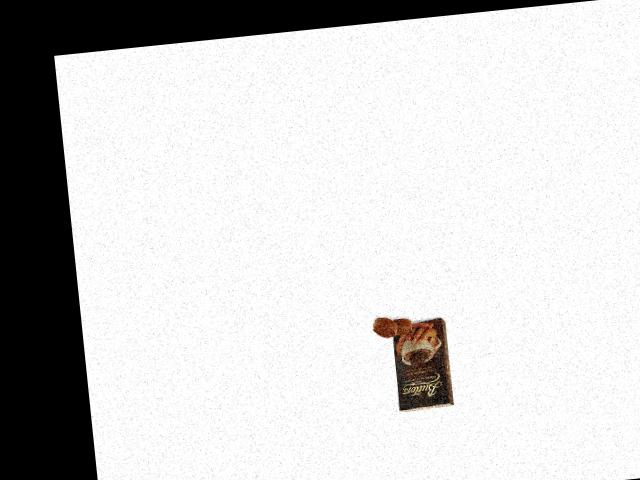chocolate: (382, 314, 457, 416)
